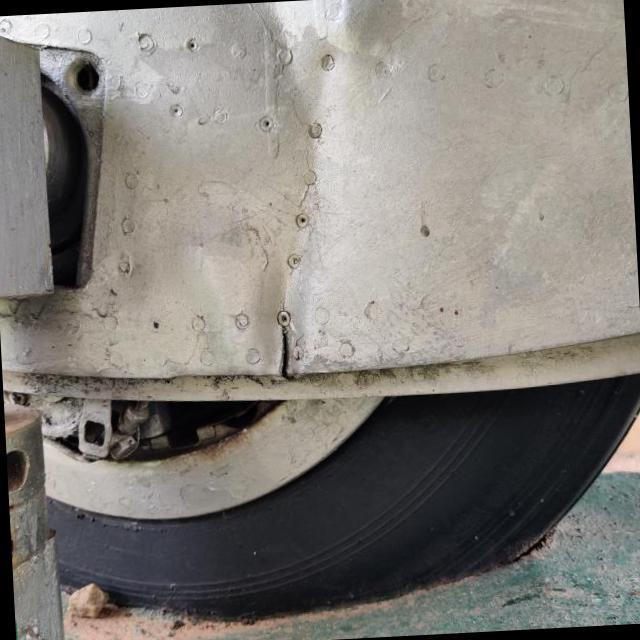Rupture: (254, 316, 306, 382)
